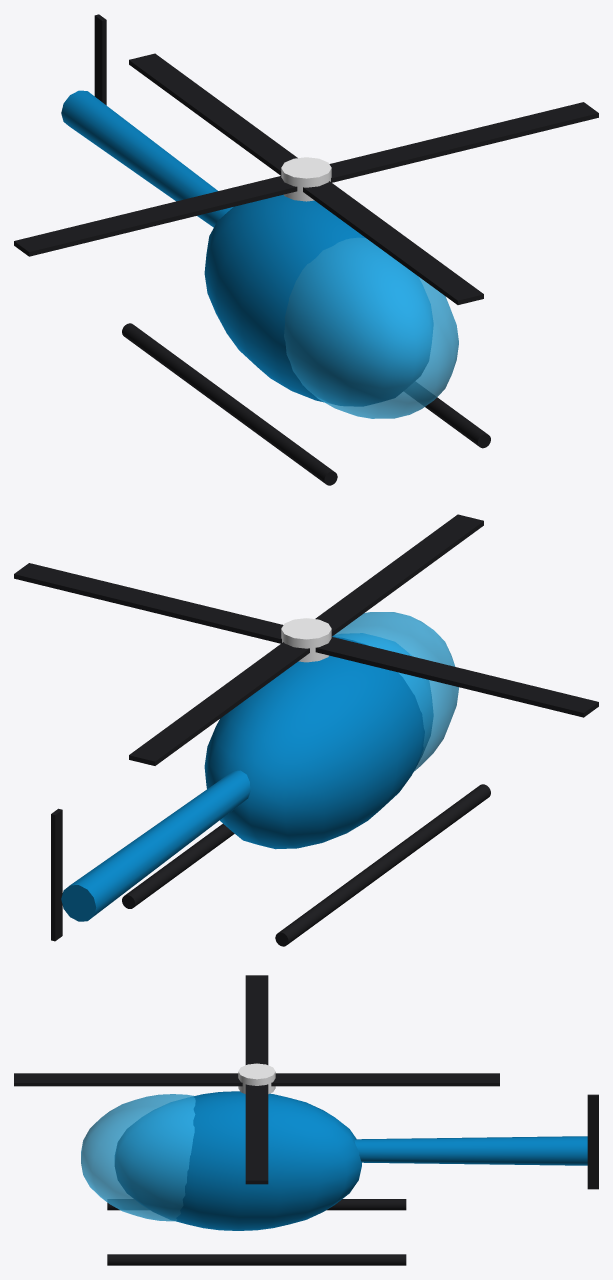
File: helicopter.glb
3 views of the same model, one above another, from view 1: azimuth 30°, elevation 25°; view 2: azimuth 150°, elevation 25°; view 3: azimuth 270°, elevation 25° (orthographic). The views are drawn at different scales.
Visible parts, largest first — view 1: object 1, object 2, rotorMain, object 3, object 4, object 5, rotorTail; view 2: object 1, rotorMain, object 3, object 2, object 4, object 5, rotorTail; view 3: object 1, rotorMain, object 2, object 3, object 5, object 4, rotorTail.
Boxes of the visible parts, x1,y1,x2,y2 form: object 1: (204, 194, 433, 406); object 2: (284, 237, 458, 418); rotorMain: (14, 53, 598, 304); object 3: (61, 90, 233, 227); object 4: (122, 323, 337, 485); object 5: (405, 382, 490, 448); rotorTail: (94, 14, 106, 105); object 1: (204, 633, 433, 849); rotorMain: (14, 514, 598, 765); object 3: (61, 770, 250, 921); object 2: (333, 612, 458, 771); object 4: (275, 784, 490, 946); object 5: (122, 824, 234, 908); rotorTail: (51, 808, 62, 941); object 1: (115, 1091, 361, 1230); rotorMain: (14, 975, 499, 1184); object 2: (81, 1094, 195, 1221); object 3: (354, 1136, 587, 1165); object 5: (107, 1254, 406, 1265); object 4: (107, 1199, 406, 1210); rotorTail: (587, 1094, 598, 1189).
Size of the model in its own units: 0.8307 by 0.3131 by 1.
